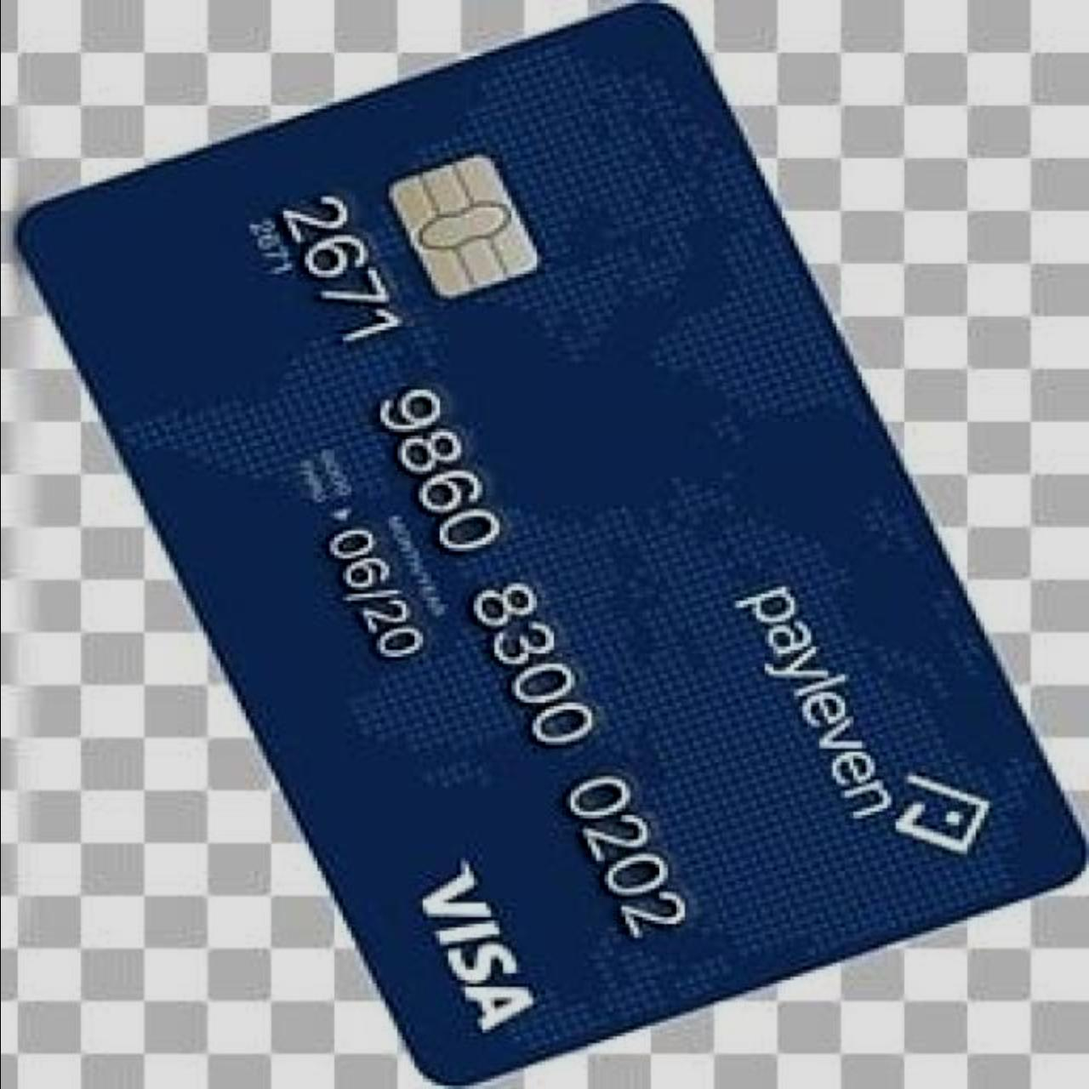credit_card: (3, 3, 1089, 1089)
